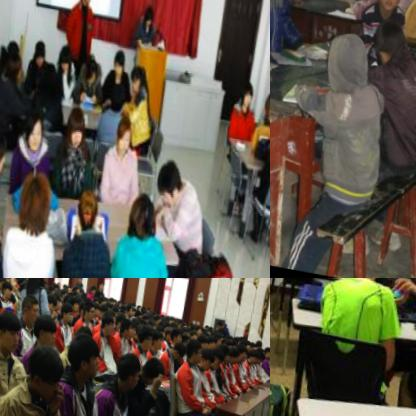head: (319, 28, 374, 96), (17, 336, 65, 399), (62, 330, 103, 385), (15, 167, 52, 225), (368, 14, 410, 64), (152, 152, 185, 207), (123, 185, 155, 232), (57, 102, 88, 148), (29, 309, 60, 350), (111, 349, 140, 392), (17, 104, 45, 148), (135, 348, 163, 390), (33, 57, 59, 99), (13, 292, 42, 329), (0, 308, 24, 352), (71, 184, 95, 224), (109, 112, 132, 150), (131, 320, 154, 352), (2, 48, 23, 82), (53, 41, 74, 70), (27, 32, 46, 63), (236, 71, 253, 105), (182, 336, 203, 363), (124, 58, 142, 88), (79, 51, 96, 81), (109, 44, 126, 73), (196, 342, 214, 369), (207, 340, 223, 367), (138, 0, 154, 26), (167, 337, 184, 361), (58, 302, 75, 325), (370, 0, 405, 11), (98, 312, 114, 335), (42, 290, 57, 312), (259, 83, 270, 112), (150, 326, 163, 348), (234, 340, 247, 362), (117, 316, 132, 335), (81, 300, 95, 320), (220, 341, 232, 363), (169, 324, 182, 342), (51, 291, 63, 310), (1, 280, 13, 297), (227, 343, 238, 361), (244, 345, 255, 362), (126, 320, 137, 336), (25, 278, 47, 286), (254, 347, 263, 363), (95, 278, 106, 290), (262, 343, 270, 355), (88, 283, 95, 294), (0, 278, 4, 291), (73, 278, 82, 282)
